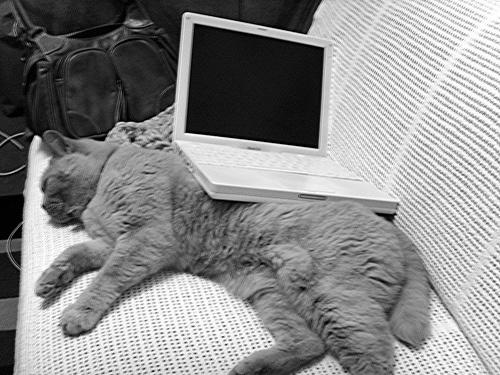cat: (36, 129, 432, 375)
sofa: (15, 2, 500, 375)
